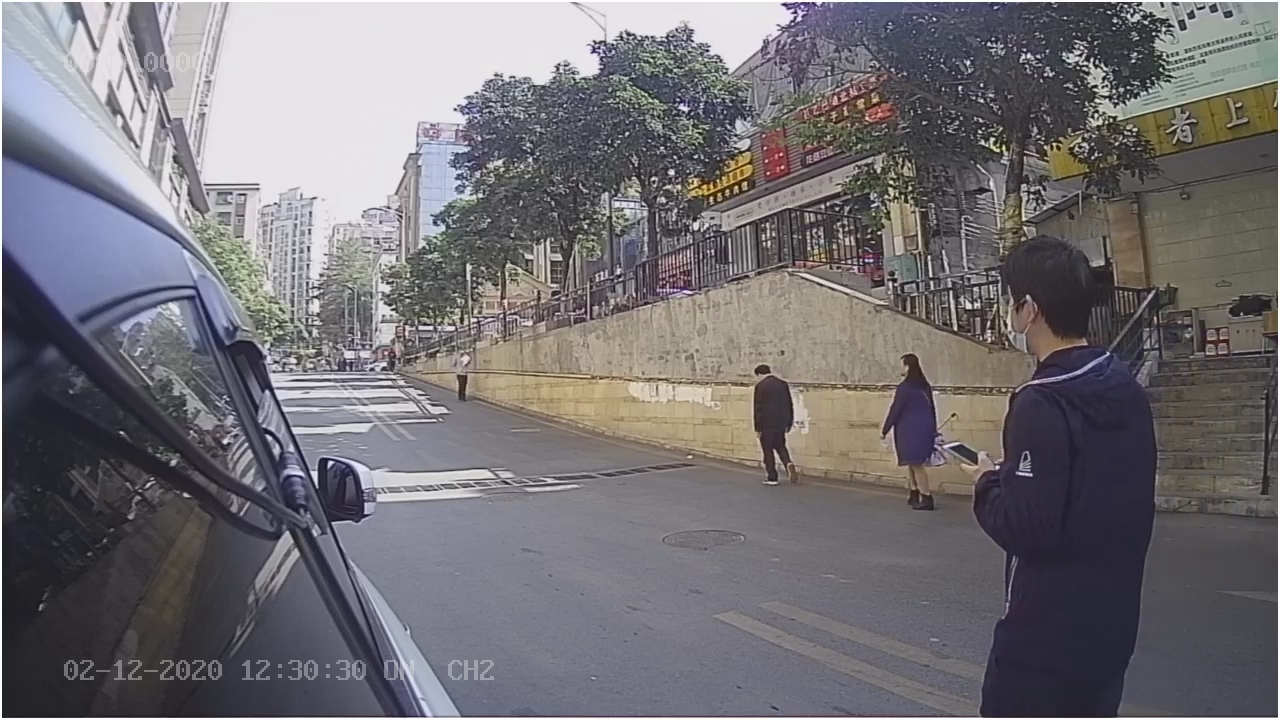person: (960, 227, 1165, 501)
